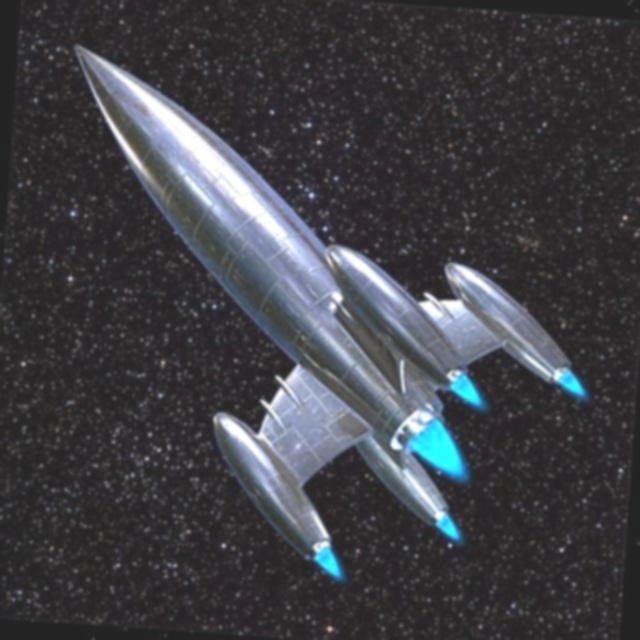rocket: (33, 43, 608, 564)
